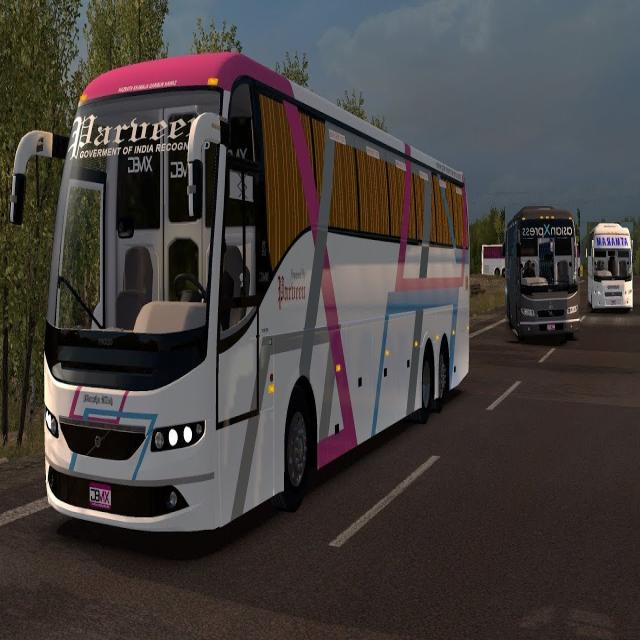bus: (11, 53, 470, 530), (505, 207, 580, 341), (588, 222, 633, 311)
